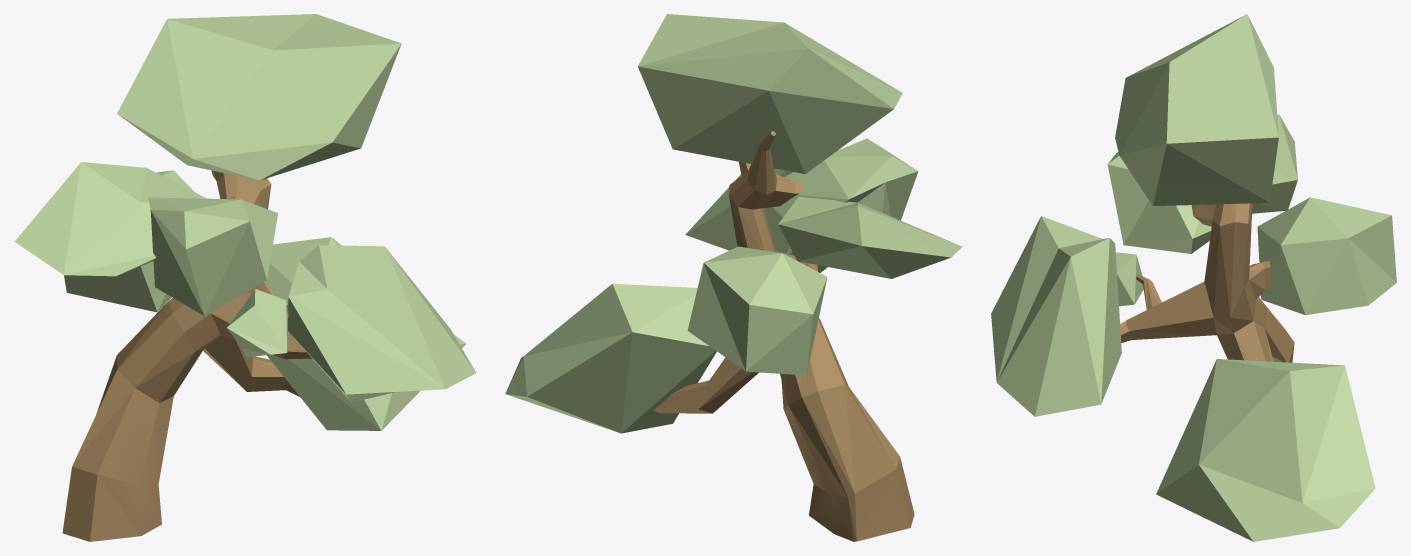
Rendered from Tree.fbx.
3 renders of one model, left to right at view 1: azimuth 30°, elevation 25°; view 2: azimuth 150°, elevation 25°; view 3: azimuth 270°, elevation 25°, orthographic. The views are drawn at different scales.
Visible parts, largest first — view 1: Vegetation_Tree_Asian_04.001, Vegetation_Tree_Asian_04; view 2: Vegetation_Tree_Asian_04.001, Vegetation_Tree_Asian_04; view 3: Vegetation_Tree_Asian_04.001, Vegetation_Tree_Asian_04.
Part boxes in pixels (x1,y1,x2,y2): Vegetation_Tree_Asian_04.001: (14, 14, 475, 430); Vegetation_Tree_Asian_04: (62, 170, 311, 541); Vegetation_Tree_Asian_04.001: (505, 14, 962, 433); Vegetation_Tree_Asian_04: (653, 131, 914, 541); Vegetation_Tree_Asian_04.001: (991, 14, 1396, 541); Vegetation_Tree_Asian_04: (1120, 203, 1294, 362).
Bounding box in the file's own units: 476 × 497 × 382.
